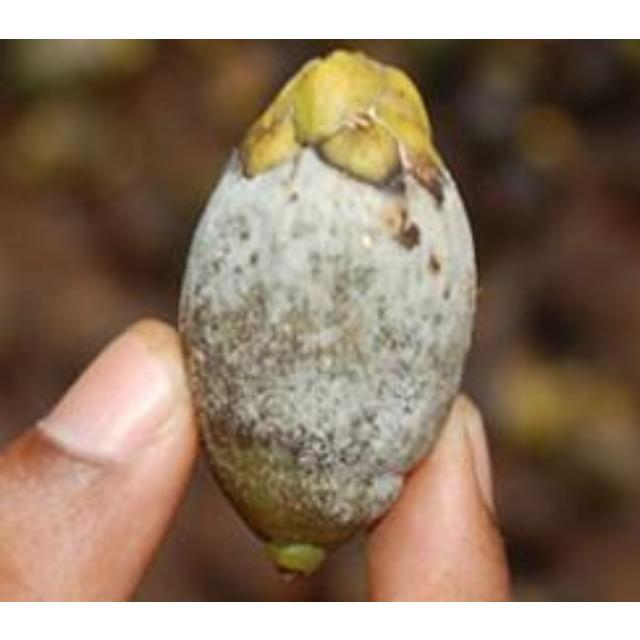damaged: (178, 48, 477, 581)
